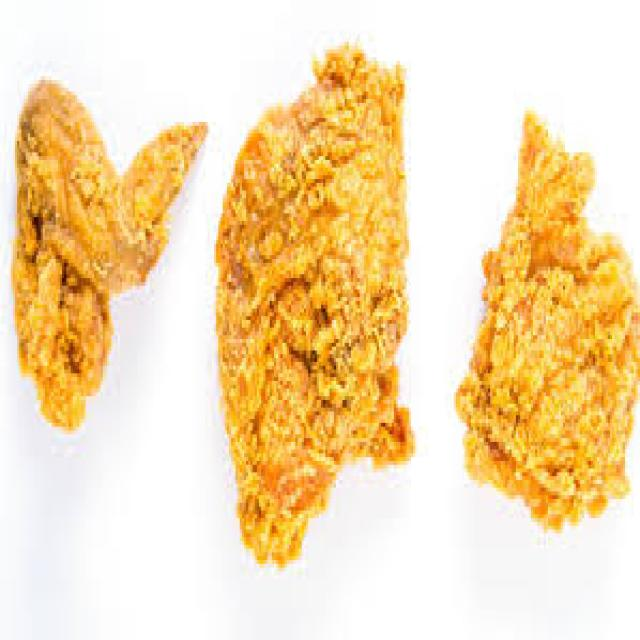Frango: (216, 57, 415, 564), (454, 110, 640, 526), (11, 84, 216, 426)
